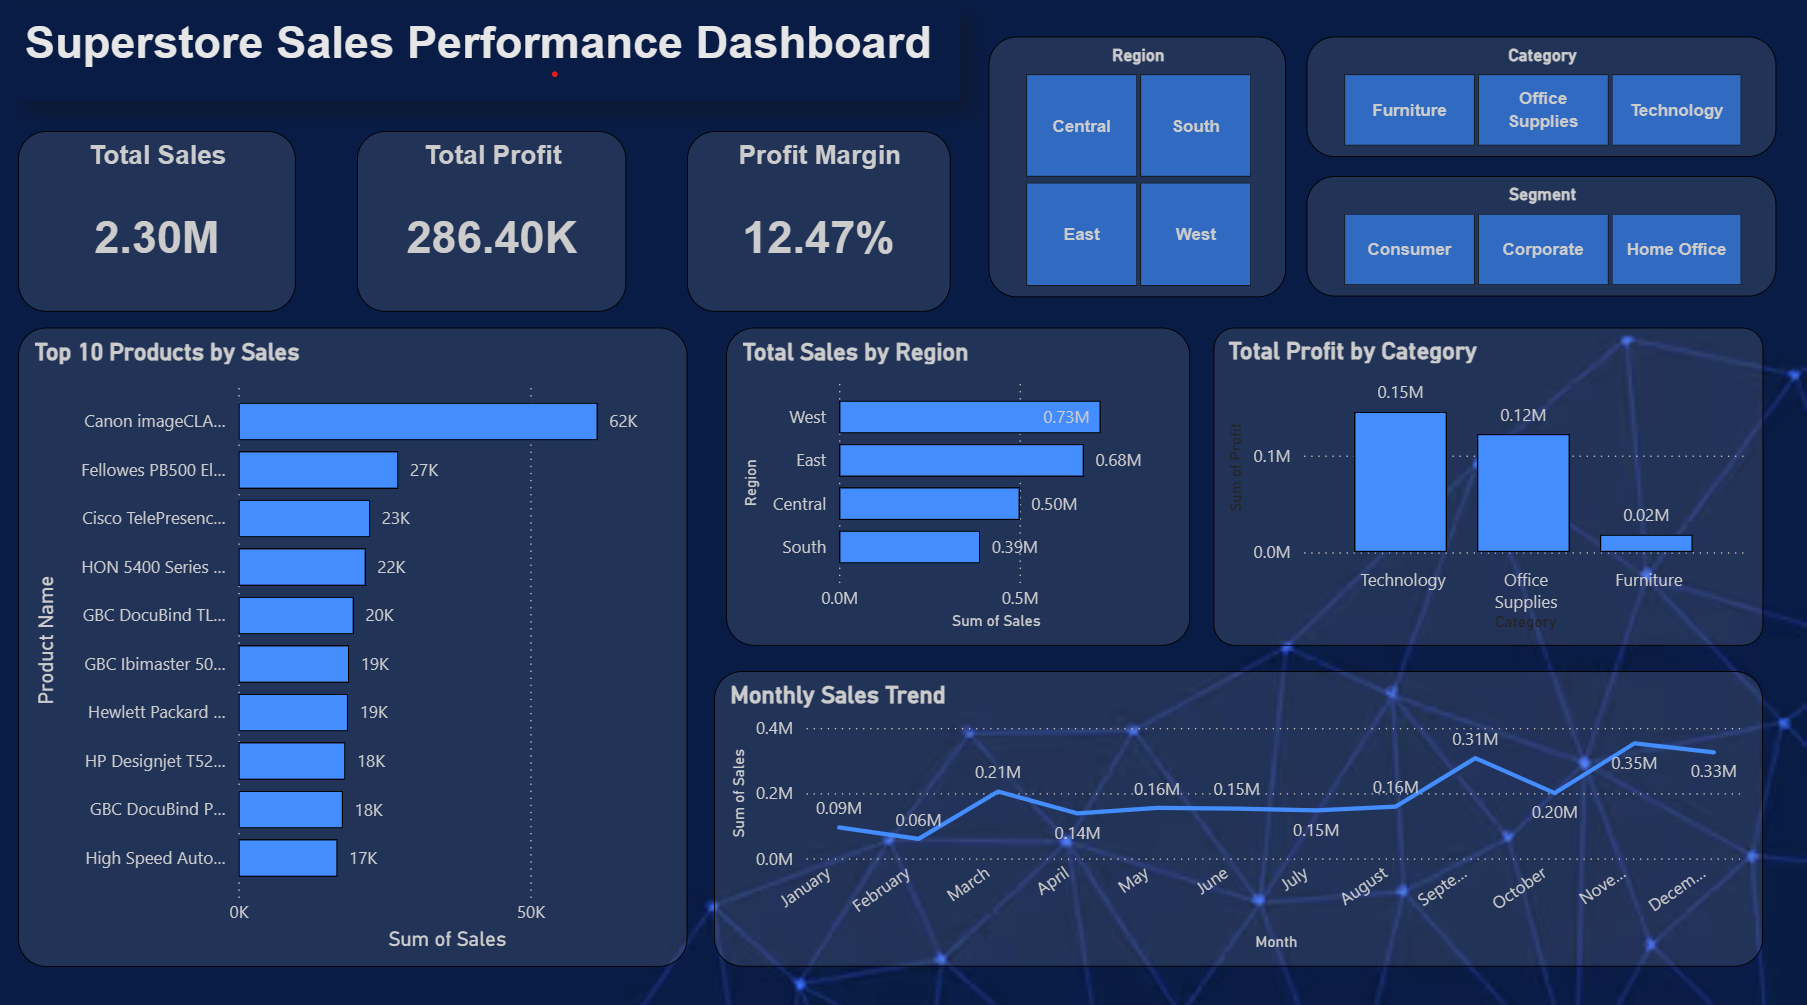

This screenshot's page, from the dashboard's own definition file:
{"tool":"powerbi","page":{"name":"Page 1","canvas":[1280,720],"ordinal":0},"visuals":[{"type":"card","title":"Total Sales","fields":{"Values":["Sum(superstore_clean.Sales)"]},"box":[12.9,97.7,196.7,127.8],"z":0},{"type":"card","title":"Total Profit","fields":{"Values":["Sum(superstore_clean.Profit)"]},"box":[252.7,97.7,191,127.8],"z":1},{"type":"card","title":"Profit Margin","fields":{"Values":["superstore_clean.Profit Margin"]},"box":[486.8,97.7,186.7,127.8],"z":2},{"type":"clusteredBarChart","title":"Total Sales by Region","fields":{"Category":["superstore_clean.Region"],"Y":["Sum(superstore_clean.Sales)"]},"box":[514.1,236.9,328.9,225.5],"z":3},{"type":"clusteredColumnChart","title":"Total Profit by Category","fields":{"Category":["superstore_clean.Category"],"Y":["Sum(superstore_clean.Profit)"]},"box":[858.8,236.9,389.2,225.5],"z":4},{"type":"lineChart","title":"Monthly Sales Trend","fields":{"Category":["superstore_clean.Order Date.Variation.Date Hierarchy.Month"],"Y":["Sum(superstore_clean.Sales)"]},"box":[505.5,479.6,742.4,209.7],"z":5},{"type":"clusteredBarChart","title":"Top 10 Products by Sales","fields":{"Category":["superstore_clean.Product Name"],"Y":["Sum(superstore_clean.Sales)"]},"box":[12.9,236.9,473.9,452.4],"z":6},{"type":"textbox","box":[12.9,11.5,666.3,64.6],"z":9},{"type":"slicer","title":"Region","fields":{"Values":["superstore_clean.Region"]},"box":[699.5,30.3,210.8,184.9],"z":10},{"type":"slicer","title":"Category","fields":{"Values":["superstore_clean.Category"]},"box":[925.4,30.3,333,85.4],"z":11},{"type":"slicer","title":"Segment","fields":{"Values":["superstore_clean.Segment"]},"box":[925.4,129.7,333,85.4],"z":12}]}

Visuals, with their boxes in screenshot pixels (x1, y1, x2, y2), scaled from the page's 1280x720 canvas onto the 1807x1005 screenshot:
"Total Sales" card: bbox(18, 136, 296, 315)
"Total Profit" card: bbox(357, 136, 626, 315)
"Profit Margin" card: bbox(687, 136, 951, 315)
"Total Sales by Region" clusteredBarChart: bbox(726, 331, 1190, 645)
"Total Profit by Category" clusteredColumnChart: bbox(1212, 331, 1762, 645)
"Monthly Sales Trend" lineChart: bbox(714, 669, 1762, 962)
"Top 10 Products by Sales" clusteredBarChart: bbox(18, 331, 687, 962)
textbox: bbox(18, 16, 959, 106)
"Region" slicer: bbox(987, 42, 1285, 300)
"Category" slicer: bbox(1306, 42, 1777, 161)
"Segment" slicer: bbox(1306, 181, 1777, 300)
